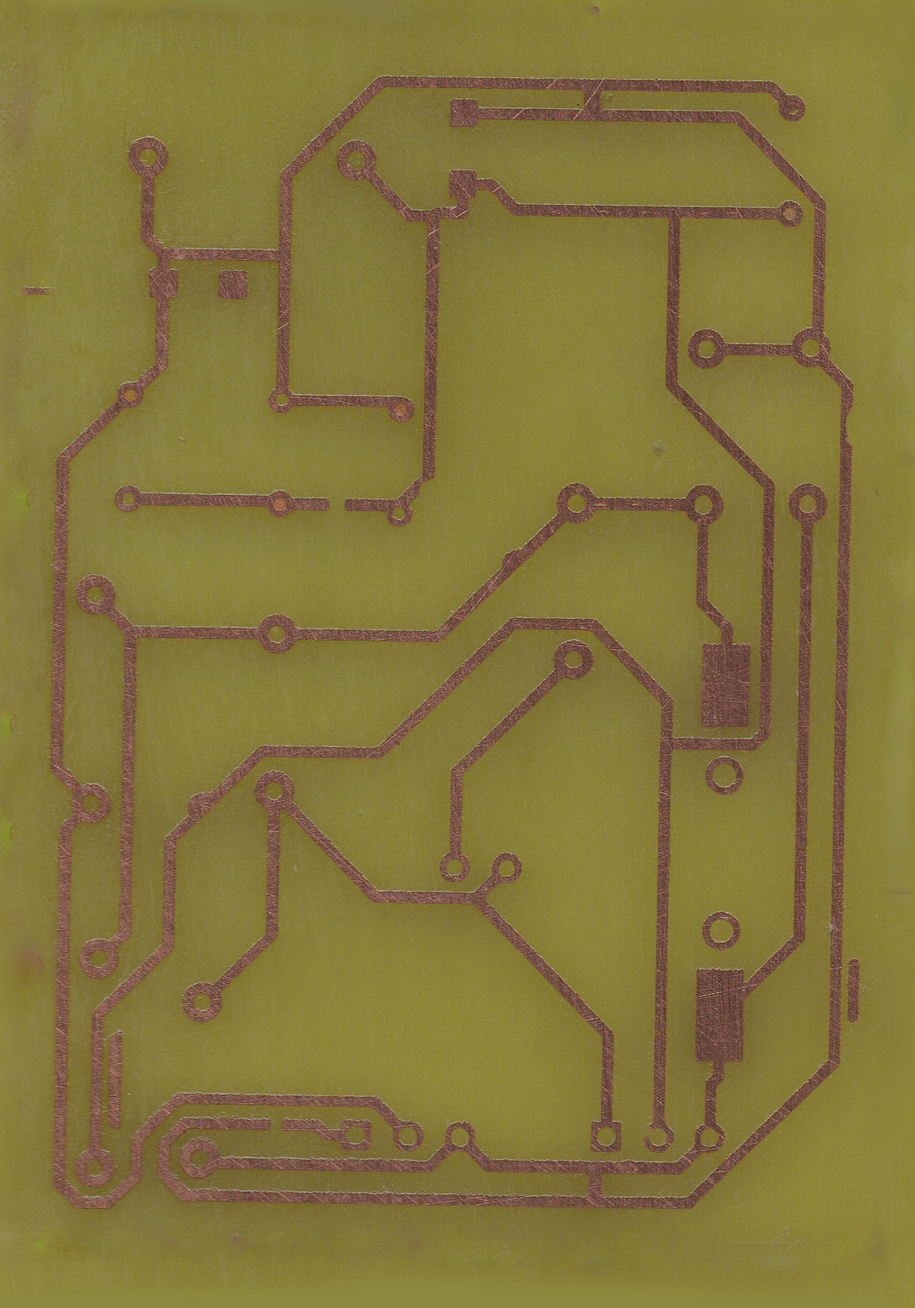missing_hole: (642, 1117, 676, 1153)
mouse_bite: (837, 400, 857, 450), (414, 474, 436, 495)
open_circuit: (263, 1112, 293, 1136), (322, 492, 351, 516)
short: (578, 75, 607, 123), (582, 1158, 608, 1211)
spur: (183, 787, 214, 822), (498, 545, 530, 577)
spurious_copper: (106, 1031, 128, 1132), (844, 953, 863, 1029)
